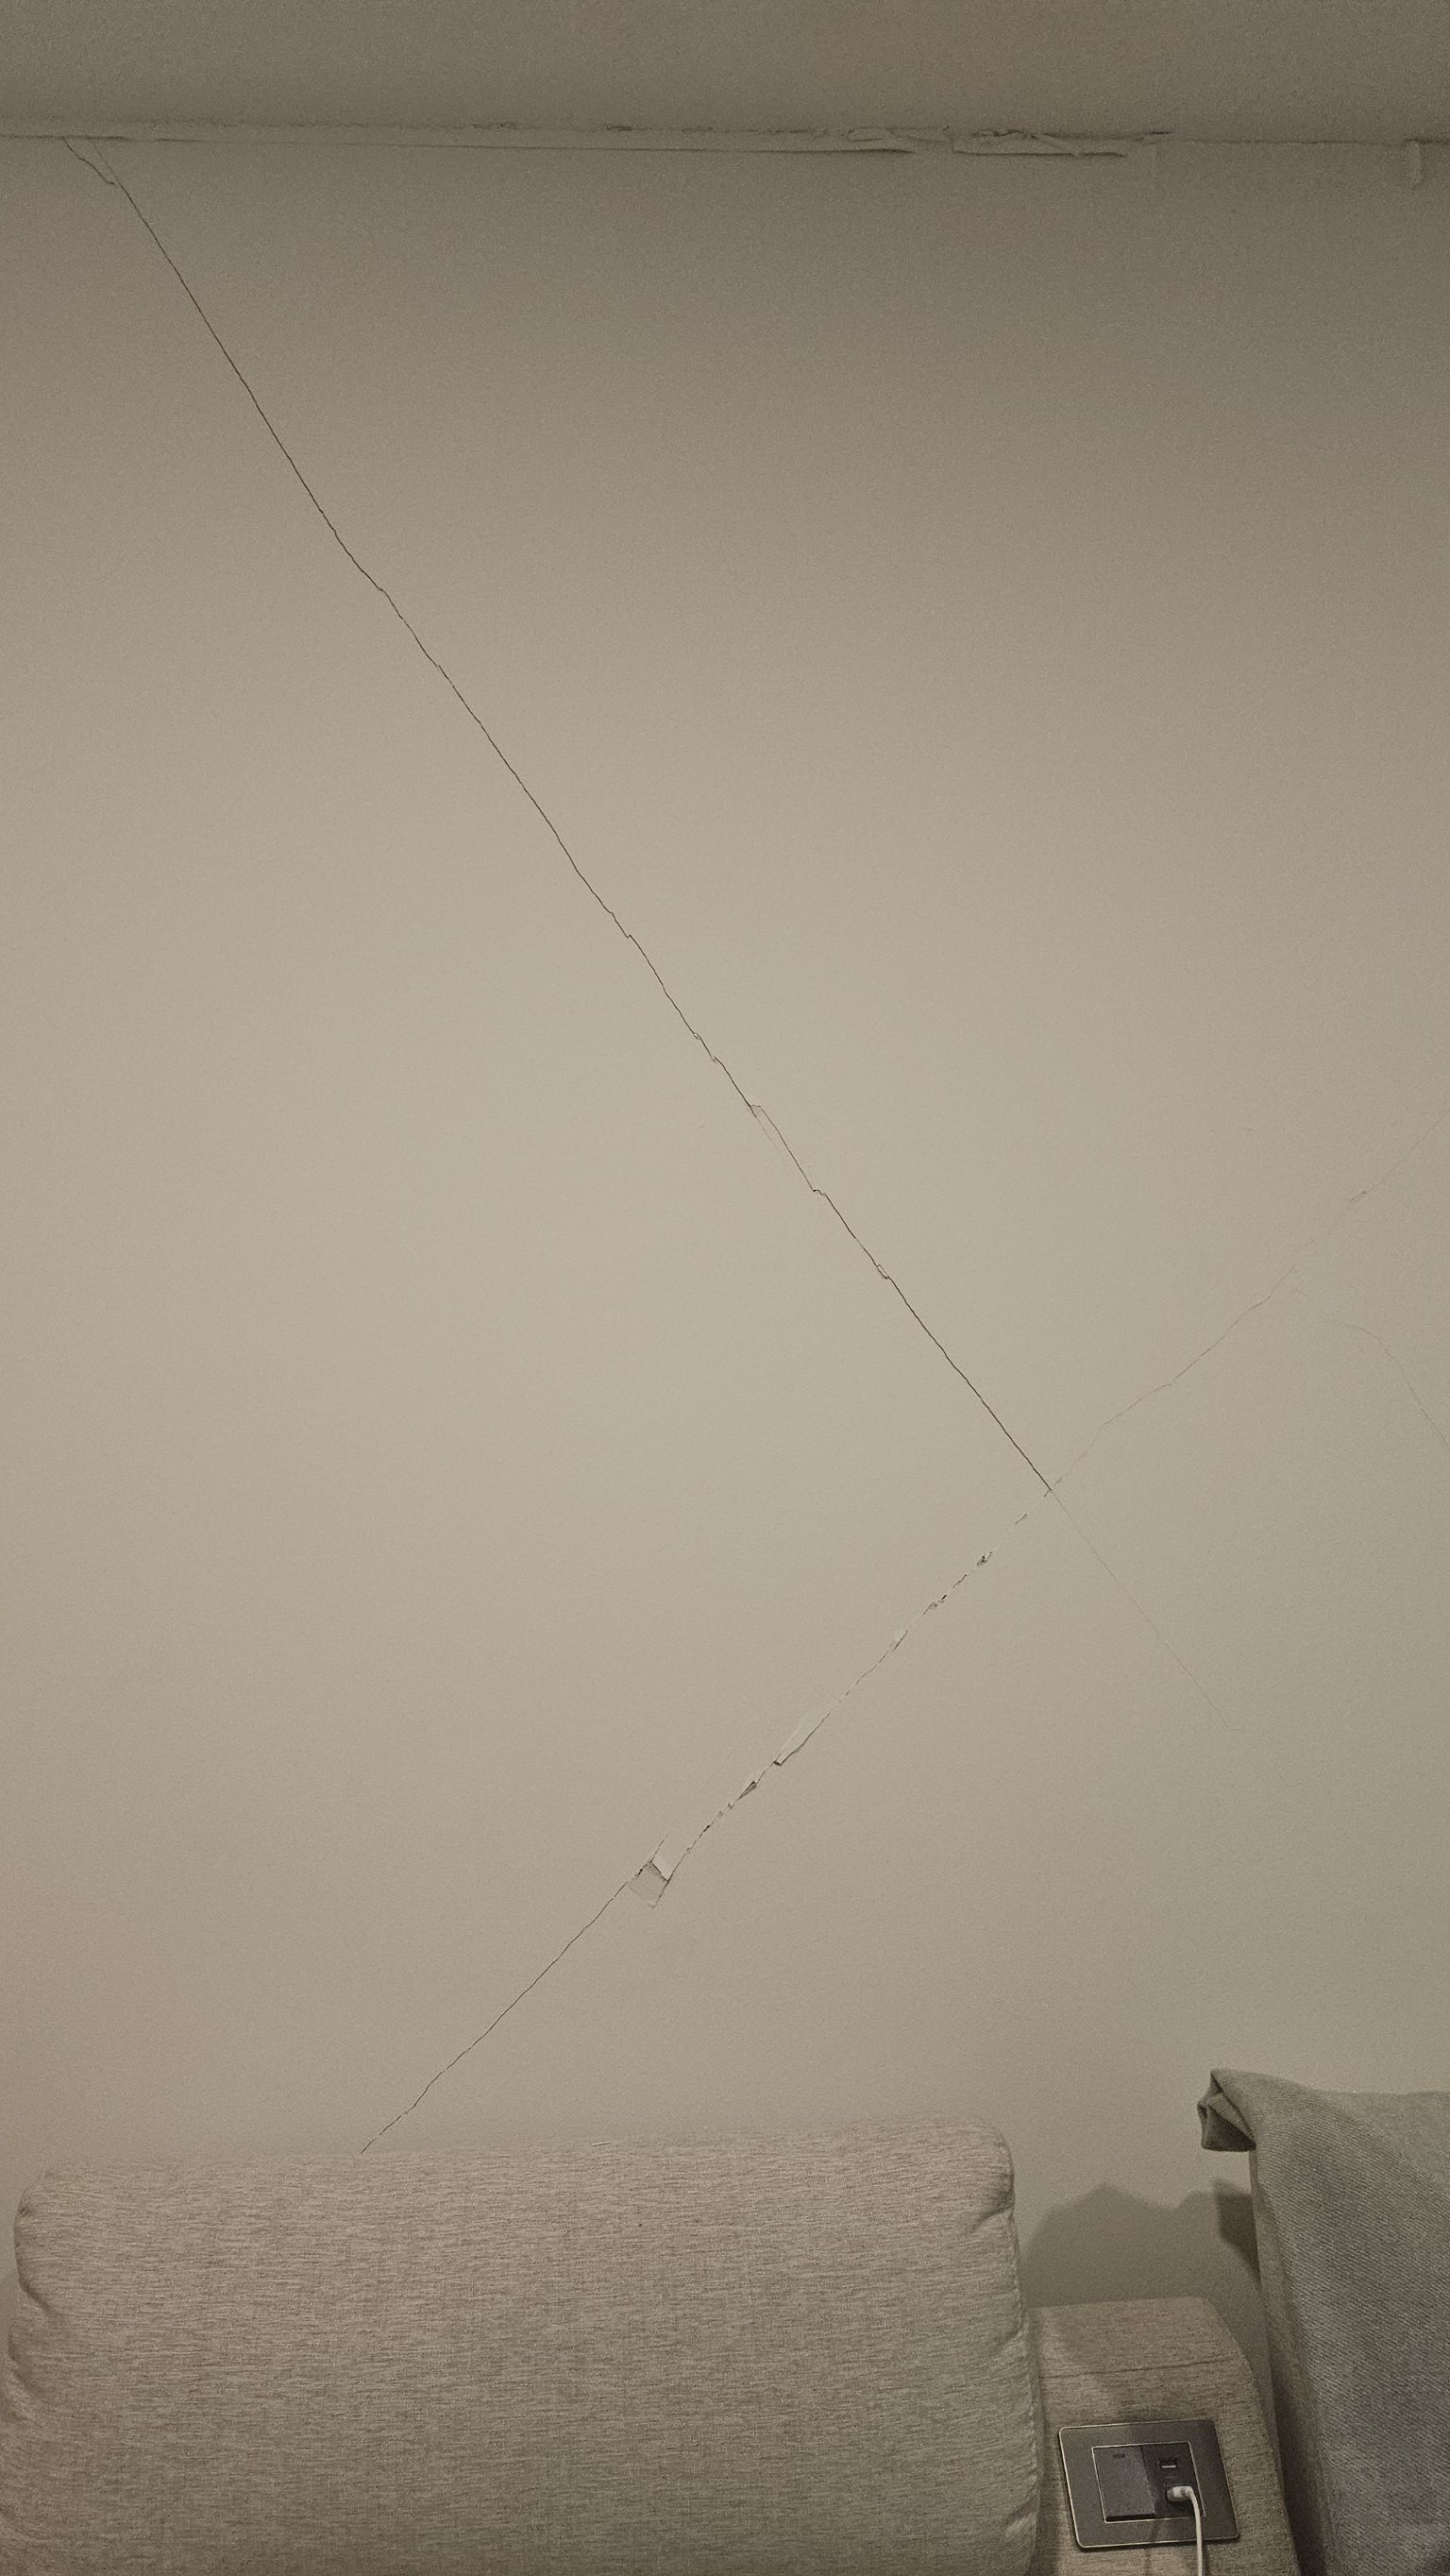Medium: (117, 207, 1183, 1518)
